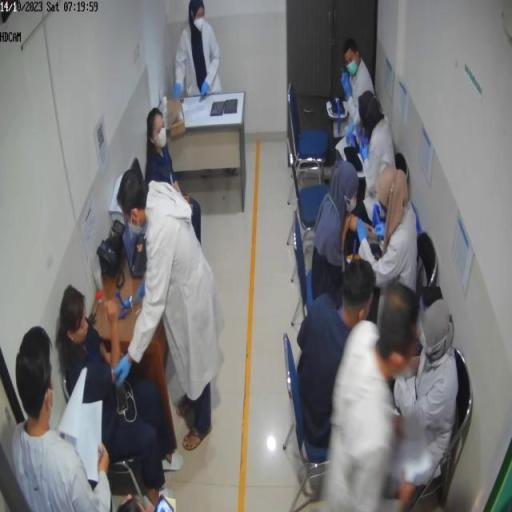person: (114, 169, 226, 455), (57, 286, 176, 497), (323, 282, 432, 510), (13, 326, 144, 511), (296, 260, 377, 460), (396, 299, 461, 476), (312, 161, 372, 307), (359, 163, 420, 296), (146, 110, 203, 243), (358, 93, 397, 217), (177, 1, 224, 100), (341, 40, 376, 144)
